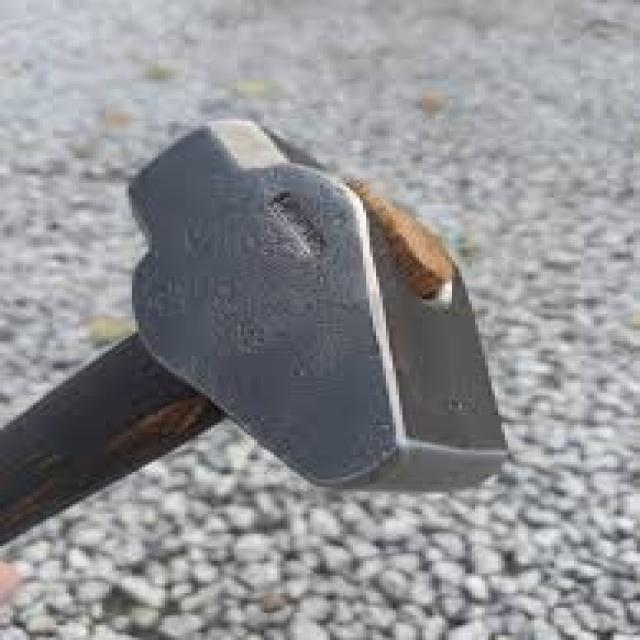hammer: (0, 108, 544, 573)
